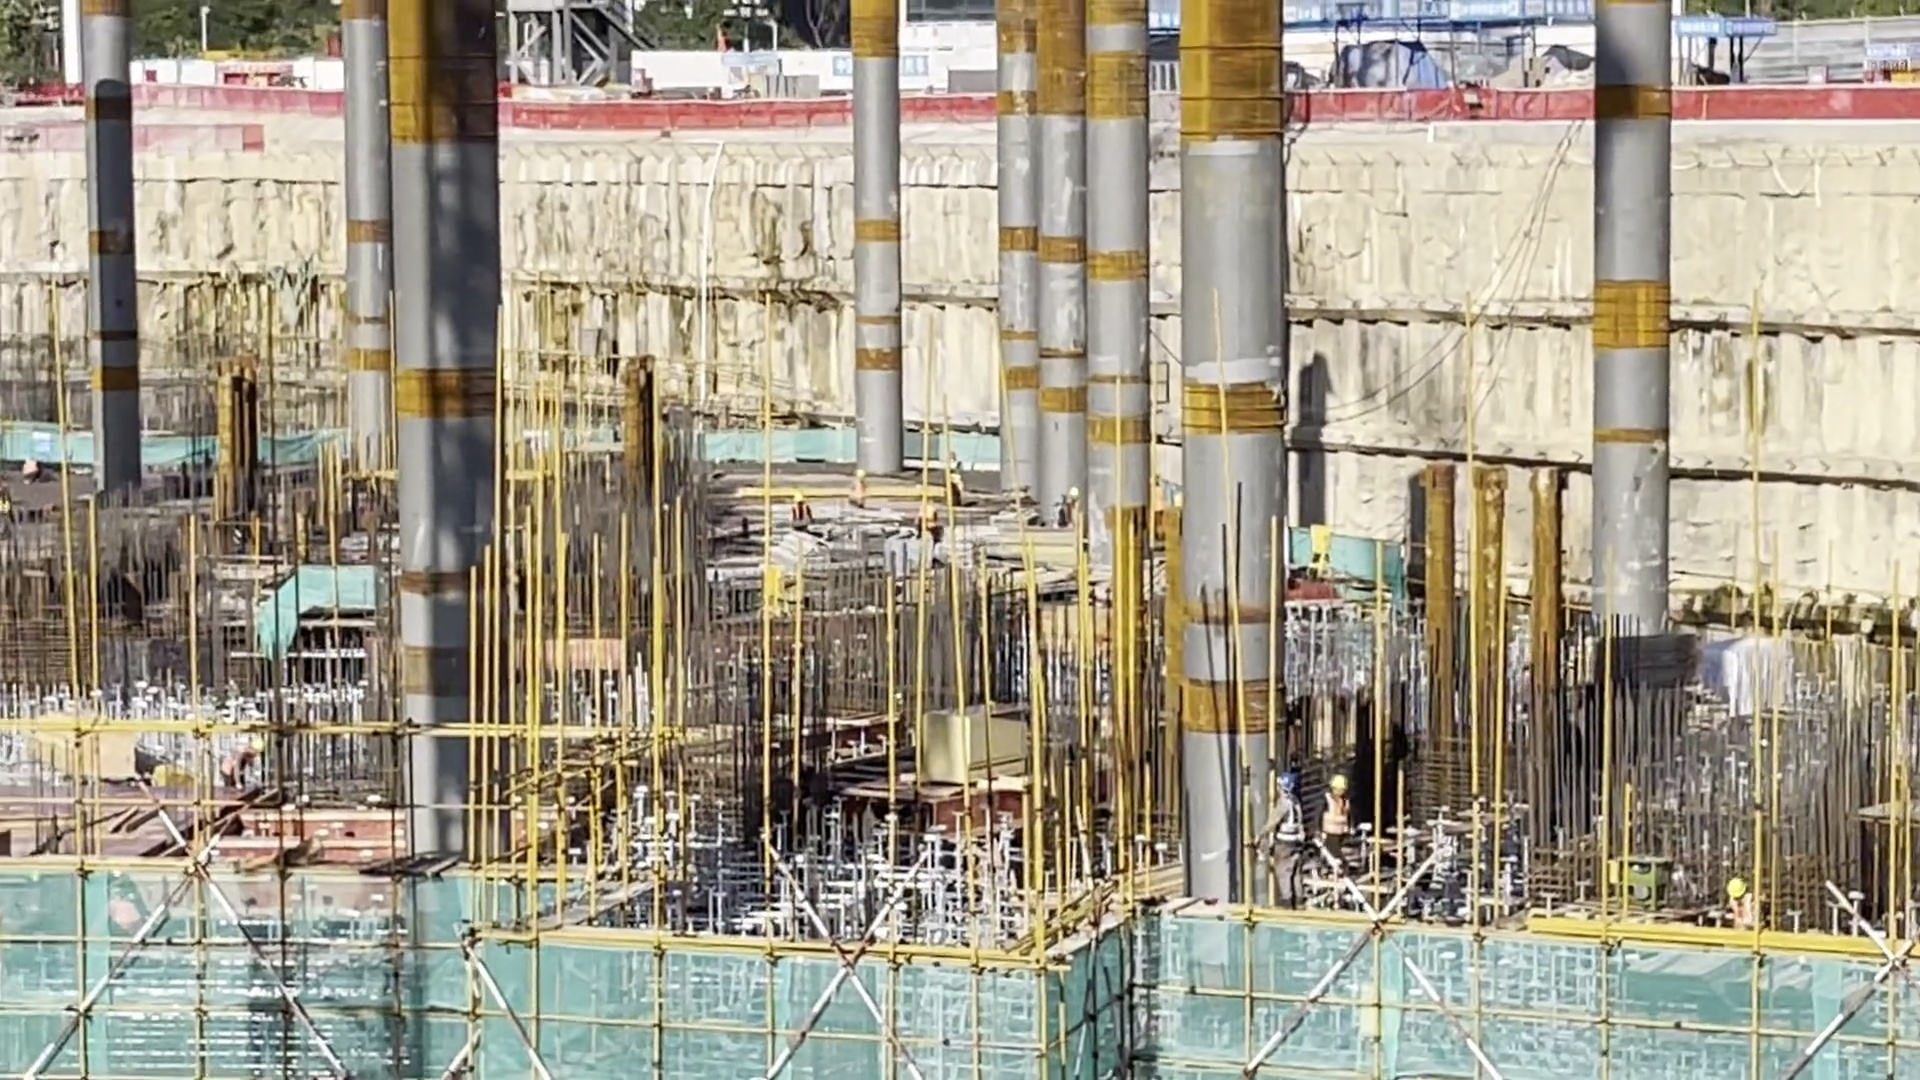helmet: (1276, 771, 1294, 792), (1727, 879, 1747, 897), (1330, 774, 1347, 789)
person: (1264, 775, 1306, 909), (1321, 774, 1352, 864), (1723, 880, 1759, 929)
vest: (1327, 796, 1347, 837)
